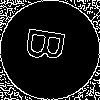B: (25, 25, 75, 66)
